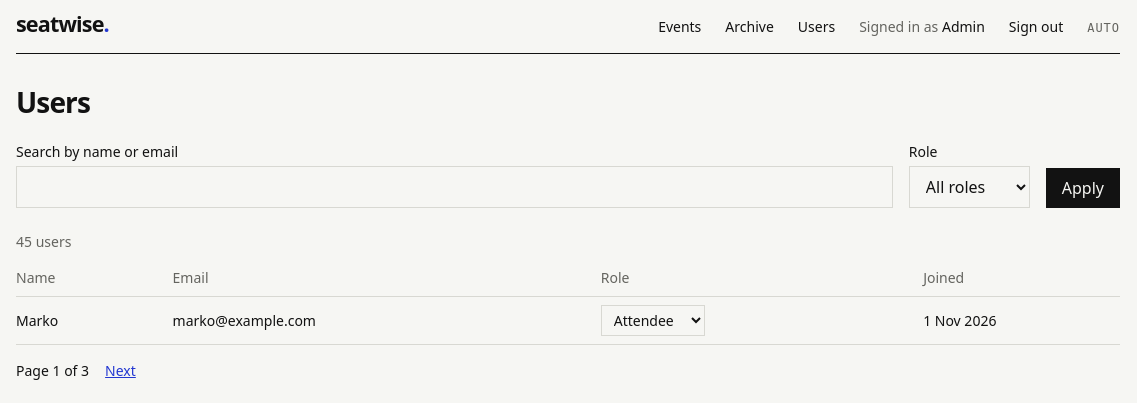
Test case: admin users page: list › moves between pages
Expected: the text "Page 1 of 3" is shown, [16,362,89,382]
Expected: the link "Previous" is not shown
Click the link "Next" at coordinates (120, 372), box [105,362,136,382]
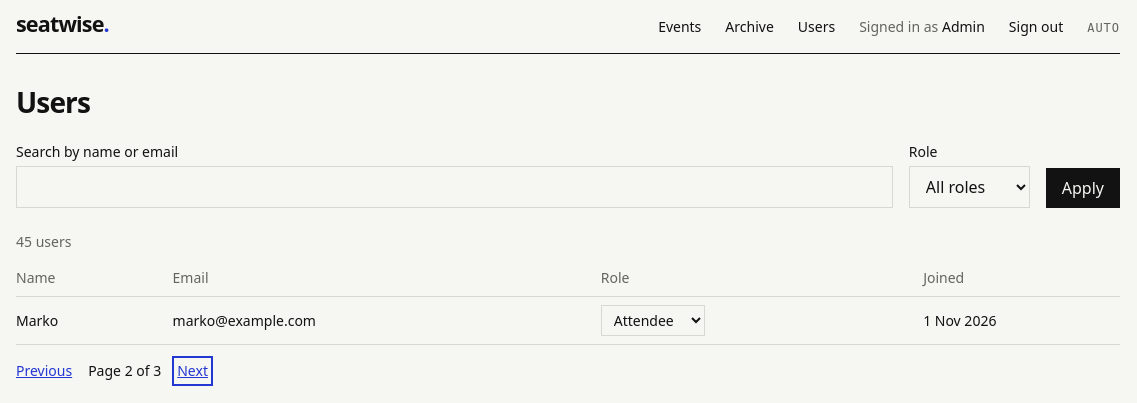
Expected: the text "Page 2 of 3" is shown, [88,362,161,382]
